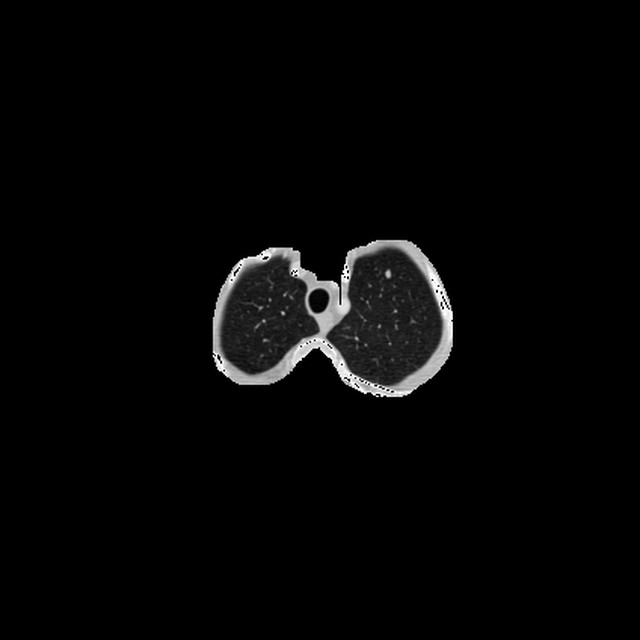PN: (383, 269, 392, 278)
